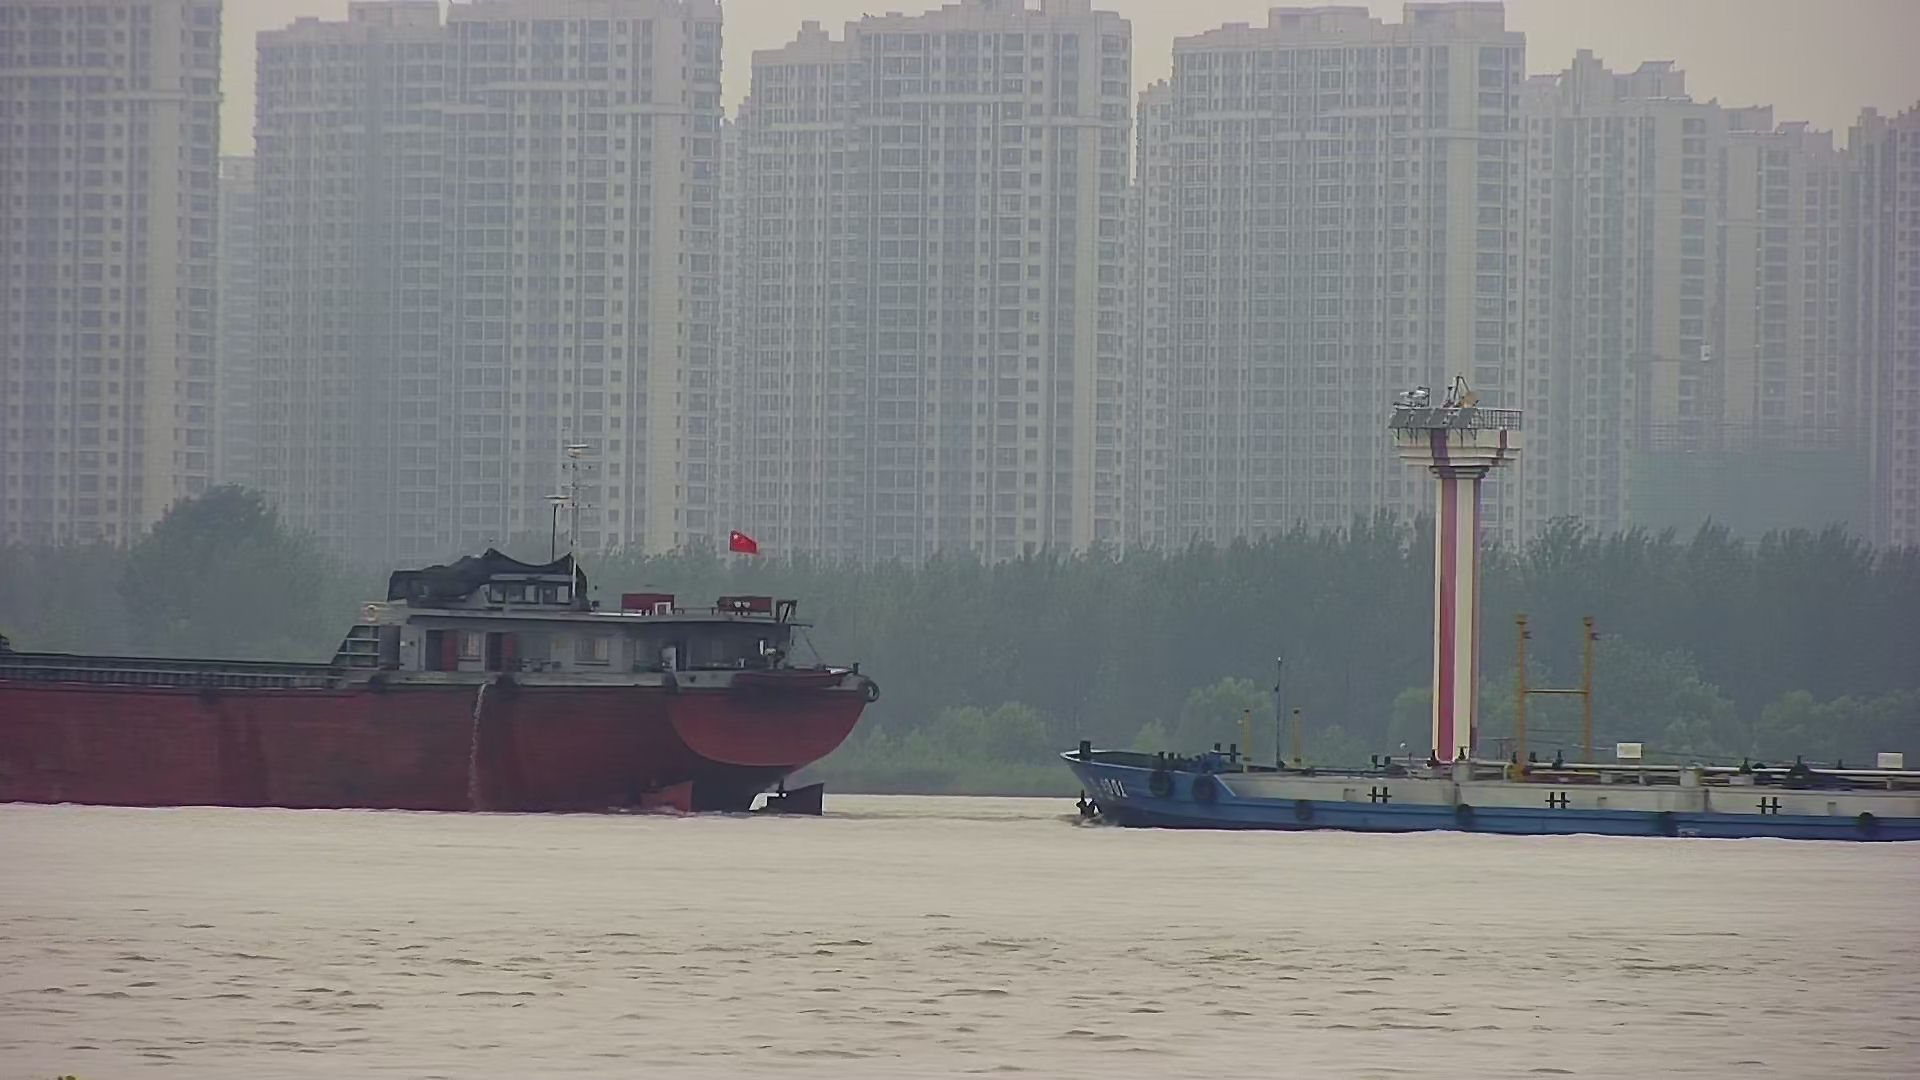platform: (1393, 377, 1514, 827)
ship: (1, 426, 881, 832), (1058, 607, 1920, 844)
